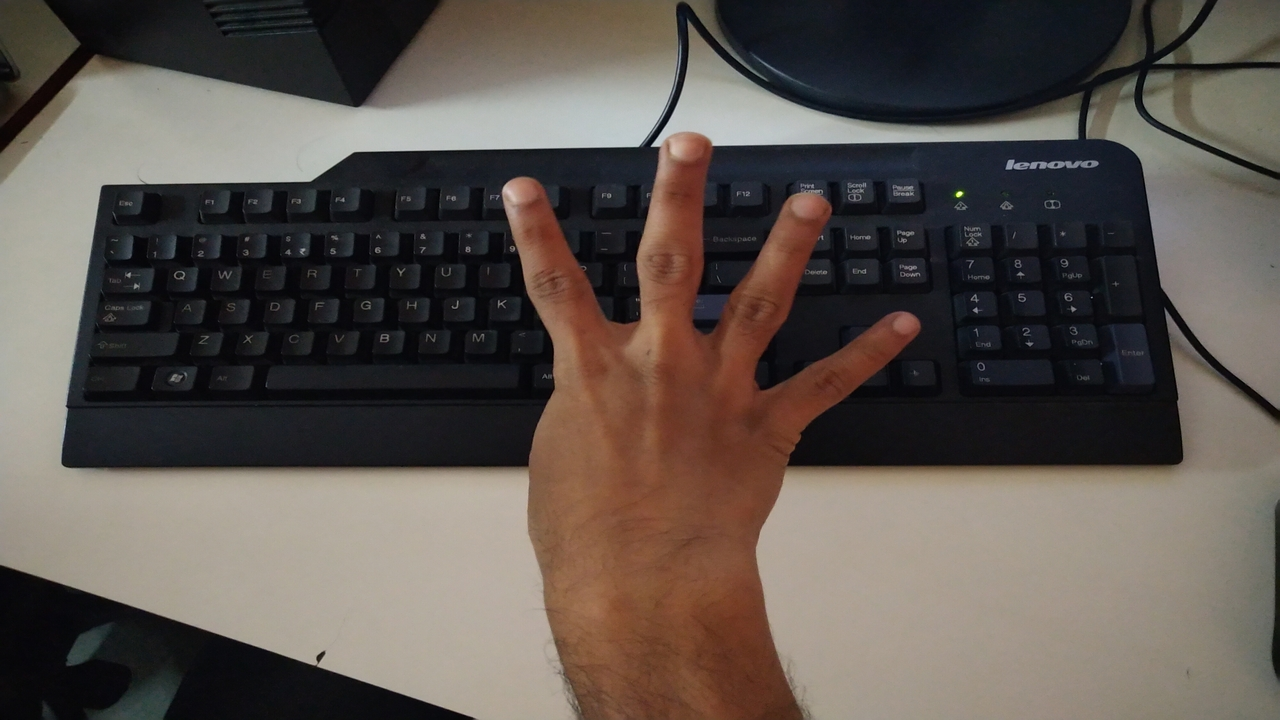fingertip: (492, 168, 554, 224), (864, 300, 932, 350), (656, 122, 716, 176), (778, 184, 838, 236)
